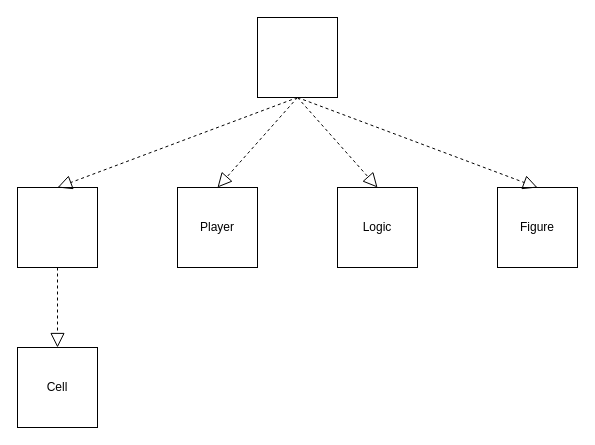
Image size: 595x445. Some labels were removed from this diagram. The shapes that lost their labels are listed below. From the top down, each one's centre as x and y in pixels, then its label:
At [297,57]: "Main".
At [57,227]: "Field".
